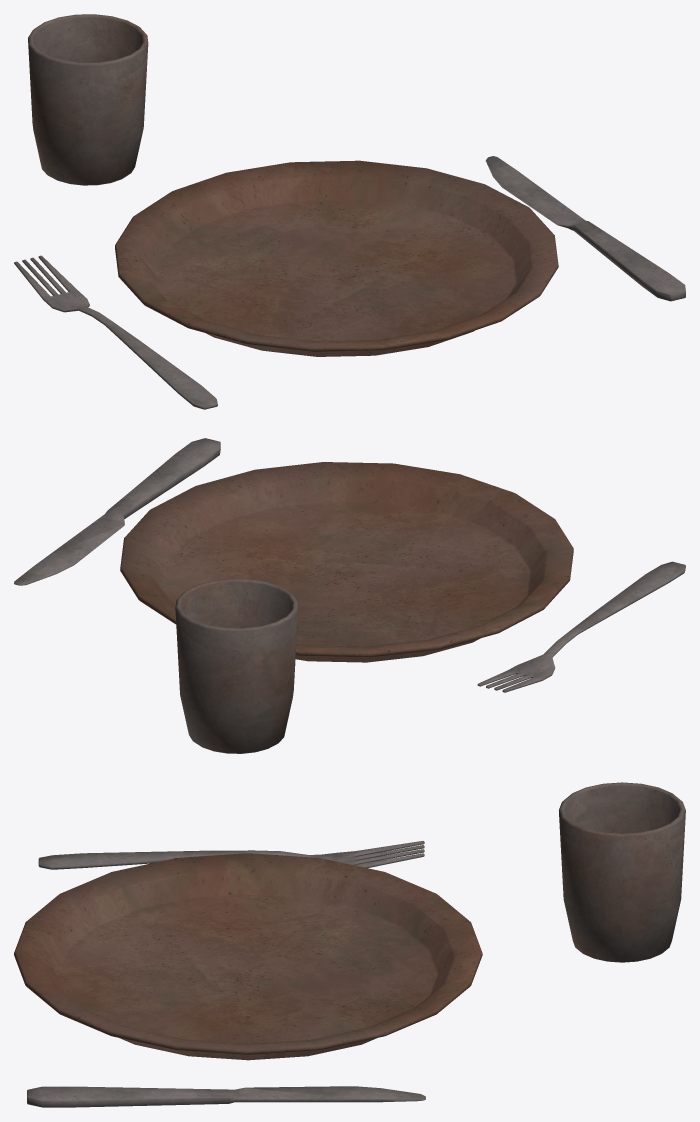
File: free_kitchen_props.glb
The picture shows the model from 3 angles, top to bottom: view 1: azimuth 30°, elevation 25°; view 2: azimuth 150°, elevation 25°; view 3: azimuth 270°, elevation 25°; orthographic projection. The views are drawn at different scales.
Parts seen in each view (by area): view 1: Plane.002; view 2: Plane.002; view 3: Plane.002.
Part boxes in pixels (bbox=[...]): Plane.002: bbox=[14, 14, 685, 409]; Plane.002: bbox=[14, 438, 685, 753]; Plane.002: bbox=[14, 782, 685, 1107].
Bounding box in the file's own units: 2.48 × 0.6167 × 2.78.
Materials: 1 (1 with a texture image).
